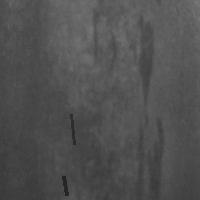inclusion: (125, 10, 154, 122), (132, 113, 167, 198), (86, 8, 118, 78), (69, 112, 76, 146), (61, 174, 68, 197)
